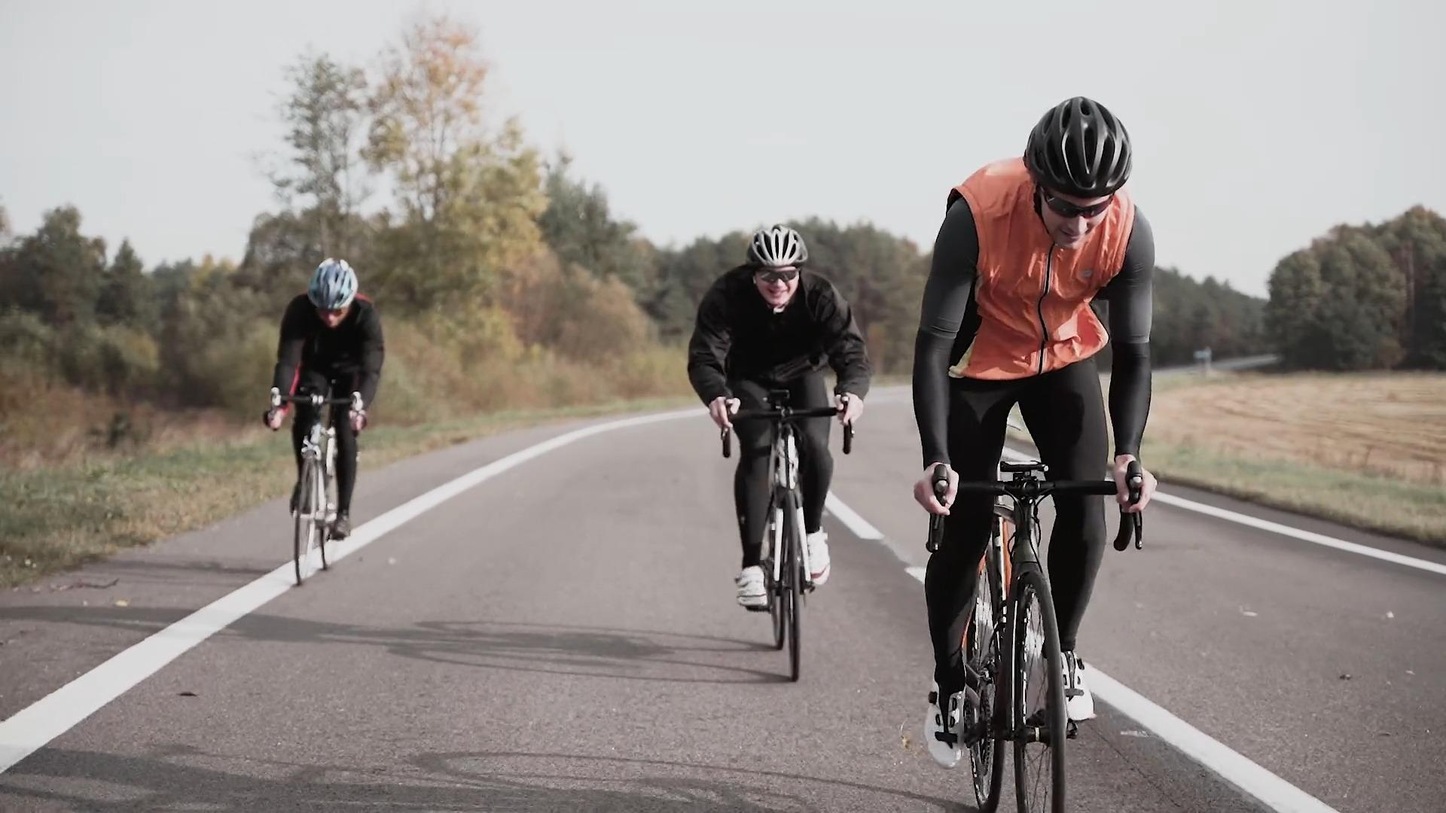bicyclist: (912, 94, 1161, 813), (689, 225, 875, 680), (265, 256, 384, 587)
helmet: (1022, 93, 1134, 252), (745, 225, 810, 310), (305, 255, 359, 328)
